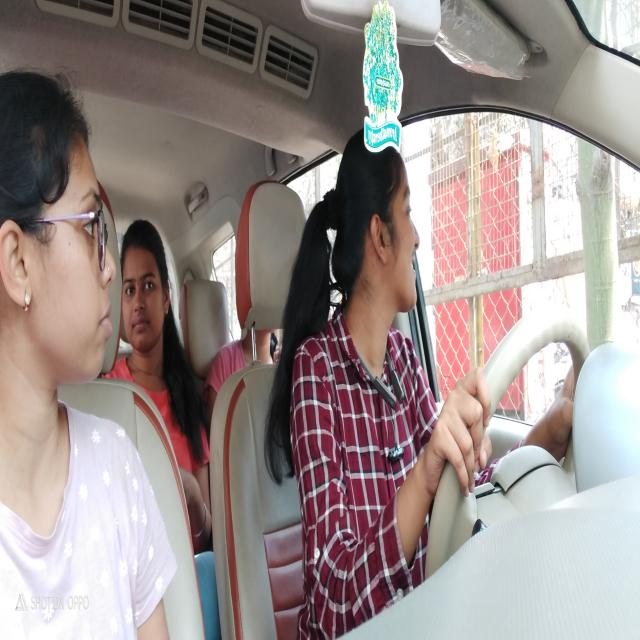LeftRight: (344, 125, 424, 342)
person: (0, 67, 116, 402), (122, 211, 173, 369)
